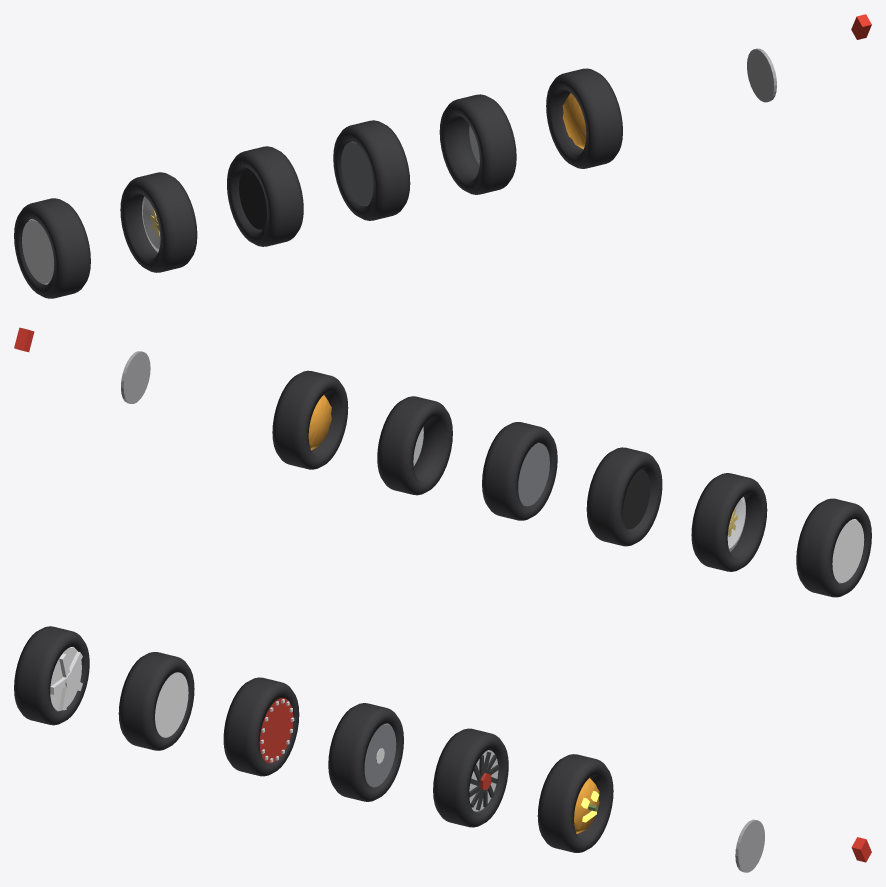
File: wheels.glb
The picture shows the model from 3 angles, top to bottom: view 1: azimuth 30°, elevation 25°; view 2: azimuth 150°, elevation 25°; view 3: azimuth 330°, elevation 25°; orthographic projection.
Visible parts, largest first — view 1: Sawblade_Tire, DeepDish_Tire, Pumpkin_Tire, Beadlock_Tire, MultiSpoke_Tire, Cragar_Tire, Multi_Barrel, Cragar_Barrel, Rotor_Disc, Beadlock_Face, Pumpkin_Rim; view 2: Sawblade_Tire, DeepDish_Tire, Pumpkin_Tire, Beadlock_Tire, MultiSpoke_Tire, Cragar_Tire, Cragar_Barrel, Multi_Barrel, Rotor_Disc, Beadlock_Face, Pumpkin_Rim; view 3: Pumpkin_Tire, Sawblade_Tire, MultiSpoke_Tire, Cragar_Tire, DeepDish_Tire, Beadlock_Tire, DeepDish_Lip, Beadlock_Ring, Multi_Barrel, Rotor_Disc, Saw_Blades, Cragar_Spokes (+2 smaller).
Part boxes in pixels (x1,y1,x2,y2): Sawblade_Tire: [439, 94, 516, 194]; DeepDish_Tire: [120, 172, 197, 272]; Pumpkin_Tire: [546, 68, 622, 168]; Beadlock_Tire: [227, 146, 303, 246]; MultiSpoke_Tire: [333, 120, 410, 220]; Cragar_Tire: [14, 198, 90, 298]; Multi_Barrel: [341, 141, 373, 205]; Cragar_Barrel: [22, 219, 54, 284]; Rotor_Disc: [747, 48, 776, 102]; Beadlock_Face: [239, 168, 266, 229]; Pumpkin_Rim: [562, 93, 586, 149]; Sawblade_Tire: [377, 396, 452, 495]; DeepDish_Tire: [691, 473, 767, 571]; Pumpkin_Tire: [272, 370, 348, 469]; Beadlock_Tire: [586, 447, 662, 546]; MultiSpoke_Tire: [482, 422, 557, 520]; Cragar_Tire: [796, 498, 871, 597]; Cragar_Barrel: [832, 519, 864, 583]; Multi_Barrel: [518, 442, 549, 506]; Rotor_Disc: [121, 351, 150, 403]; Beadlock_Face: [623, 469, 650, 529]; Pumpkin_Rim: [308, 395, 331, 450]; Pumpkin_Tire: [537, 754, 613, 852]; Sawblade_Tire: [433, 728, 508, 827]; MultiSpoke_Tire: [328, 703, 403, 801]; Cragar_Tire: [14, 626, 89, 725]; DeepDish_Tire: [118, 652, 194, 750]; Beadlock_Tire: [223, 677, 299, 776]; DeepDish_Lip: [155, 672, 188, 737]; Beadlock_Ring: [259, 698, 293, 763]; Multi_Barrel: [364, 723, 396, 788]; Rotor_Disc: [735, 819, 764, 872]; Saw_Blades: [469, 751, 499, 810]; Cragar_Spokes: [50, 651, 82, 710].
Bounding box in the file's own units: 7.08 × 0.72 × 0.72.
